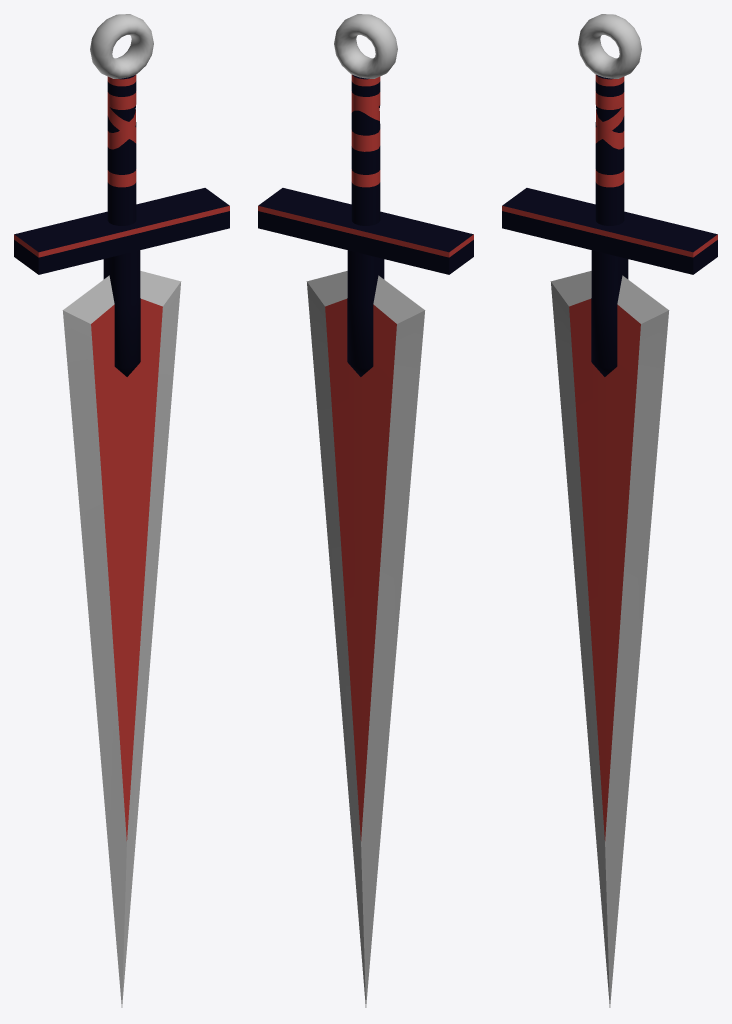
File: SwordTest.0.fbx
The picture shows the model from 3 angles, left to right: view 1: azimuth 30°, elevation 25°; view 2: azimuth 150°, elevation 25°; view 3: azimuth 330°, elevation 25°; orthographic projection.
Parts seen in each view (by area): view 1: SWORD; view 2: SWORD; view 3: SWORD.
Part boxes in pixels (<box>): SWORD: <box>14,14,229,1007</box>; SWORD: <box>258,14,473,1007</box>; SWORD: <box>502,14,717,1007</box>.
Bounding box in the file's own units: 31.15 × 155 × 6.95.
